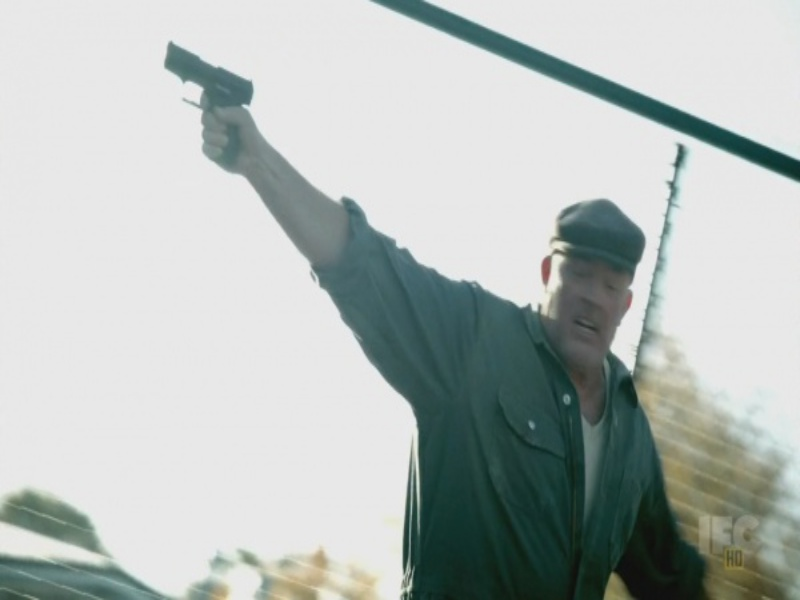weapon: (199, 90, 715, 599), (159, 36, 253, 172)
